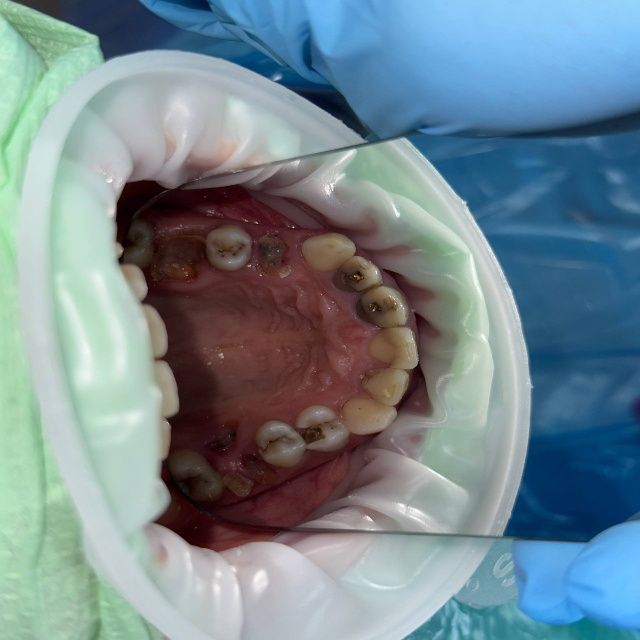clean_tooth: (153, 362, 177, 416), (141, 306, 165, 355)
plaque: (59, 0, 639, 629)
